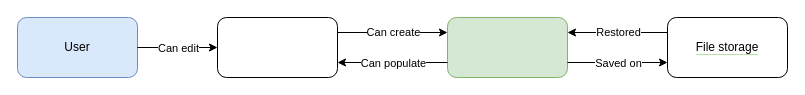
This 805x95 diagram has some shape labels left out. The shapes that lost their labels are listed below. From the top down, each one's centre as x and y in pixels, then its label:
pixel 277 47: basics
pixel 507 47: JSON Resume
